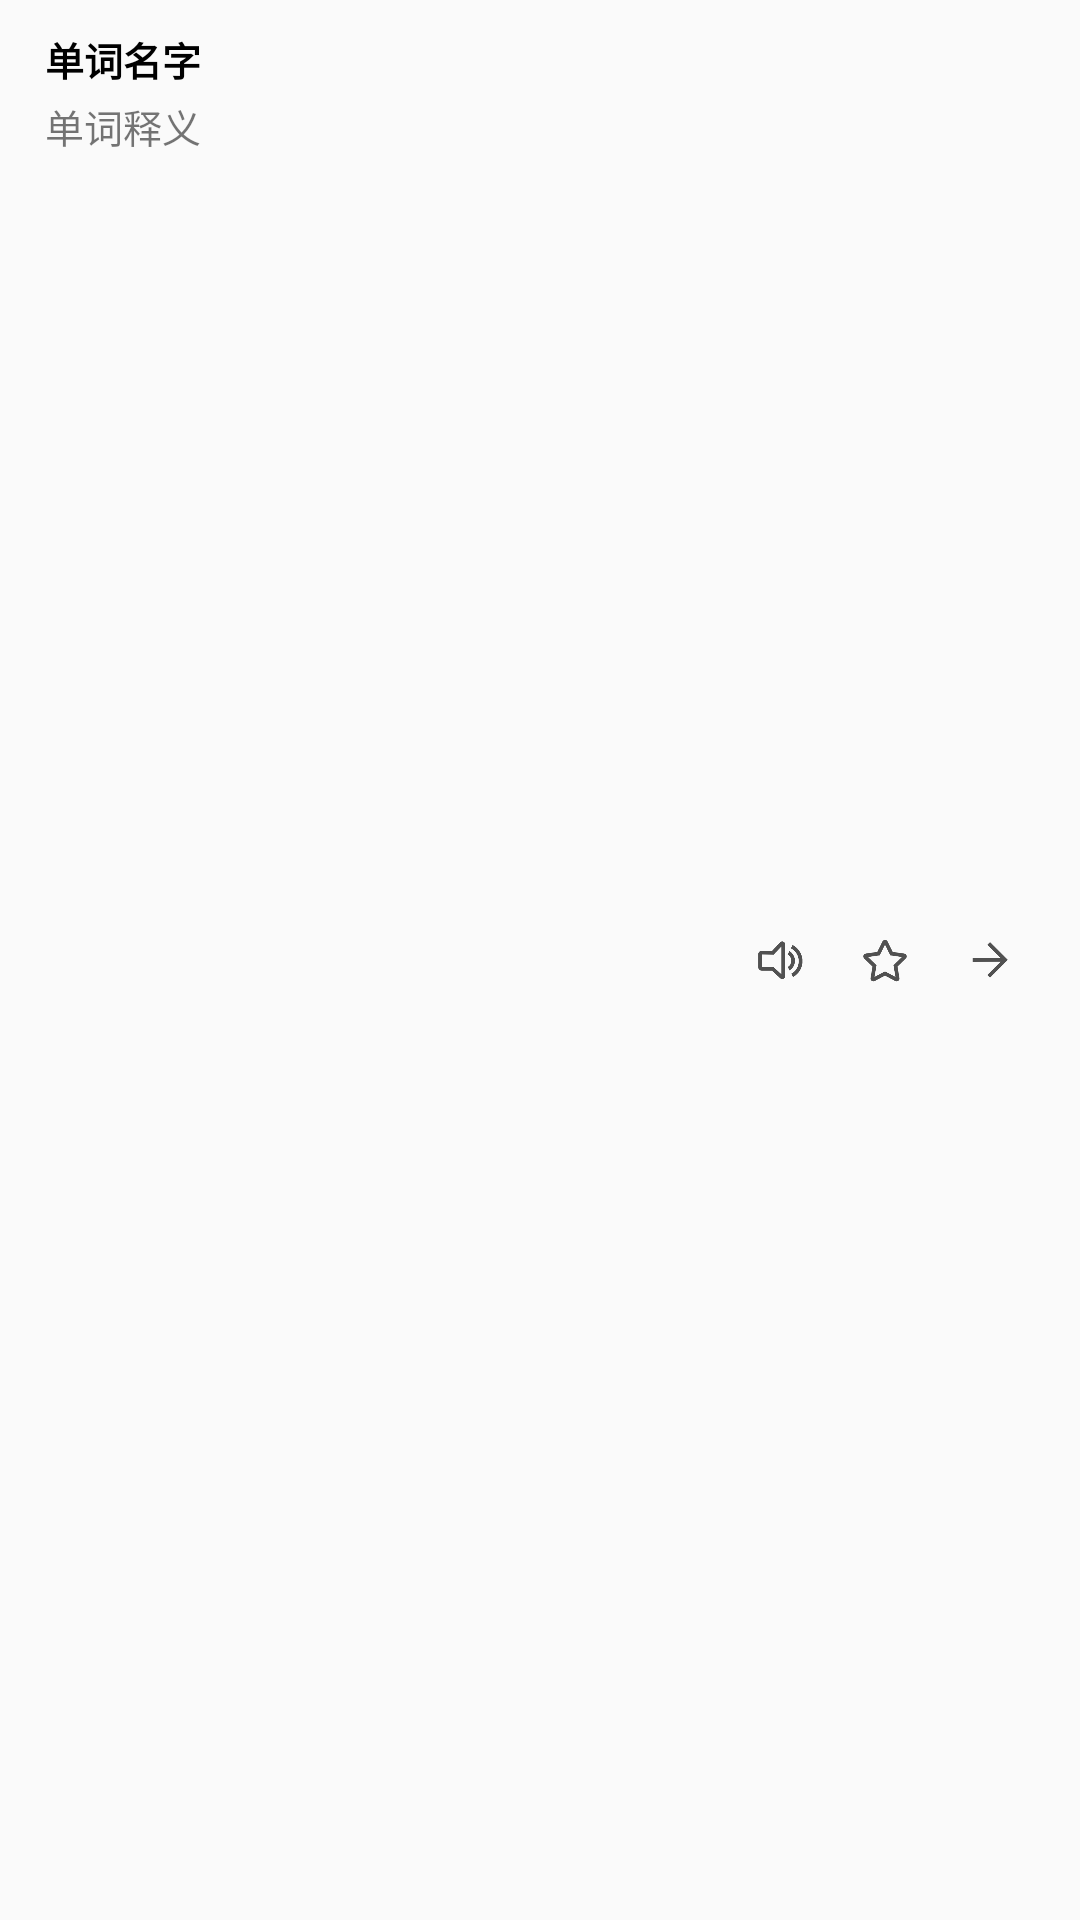

Icons on this 1080px×1920px Android screen, each with the point to tap as point (x, y):
next: point (990, 959)
sound: point (780, 960)
star notify: point (885, 961)
